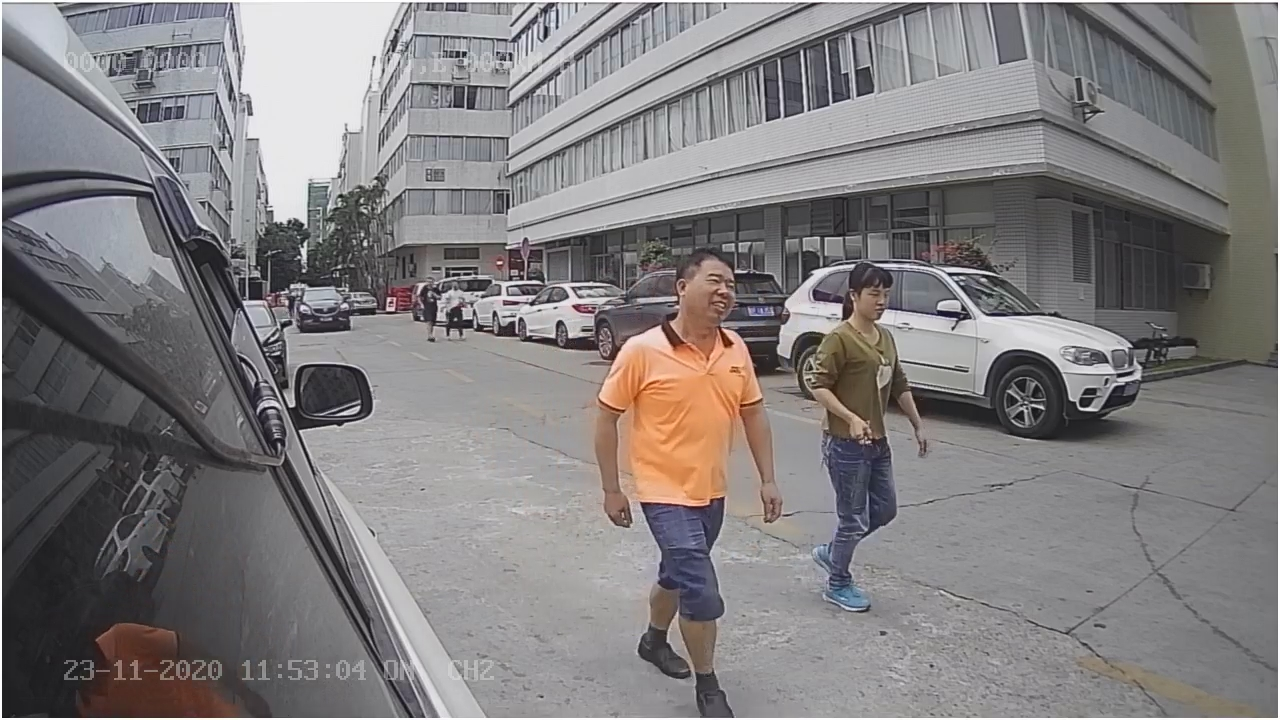person: (590, 249, 778, 688), (806, 252, 917, 619)
